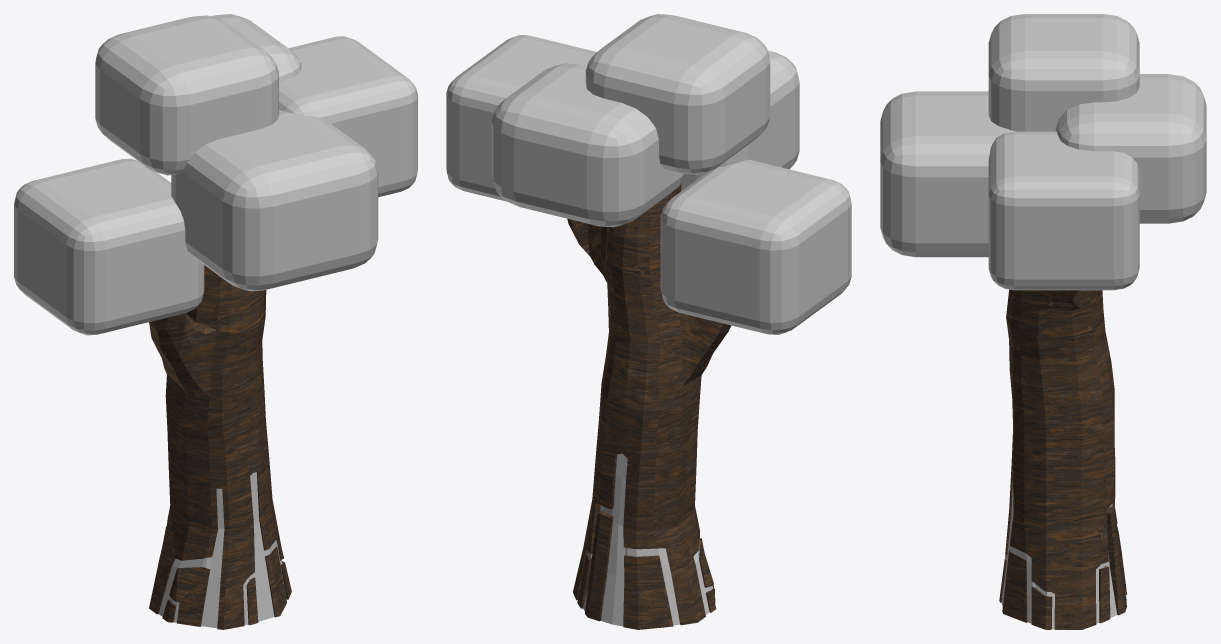
Rendered from NewThree.fbx.
3 renders of one model, left to right at view 1: azimuth 30°, elevation 25°; view 2: azimuth 150°, elevation 25°; view 3: azimuth 270°, elevation 25°, orthographic. The views are drawn at different scales.
Parts seen in each view (by area): view 1: Cube; view 2: Cube; view 3: Cube.
Part boxes in pixels (<box>): Cube: <box>14,14,417,629</box>; Cube: <box>446,14,851,629</box>; Cube: <box>880,14,1206,629</box>.
Bounding box in the file's own units: 5.17 × 8.05 × 4.33.
